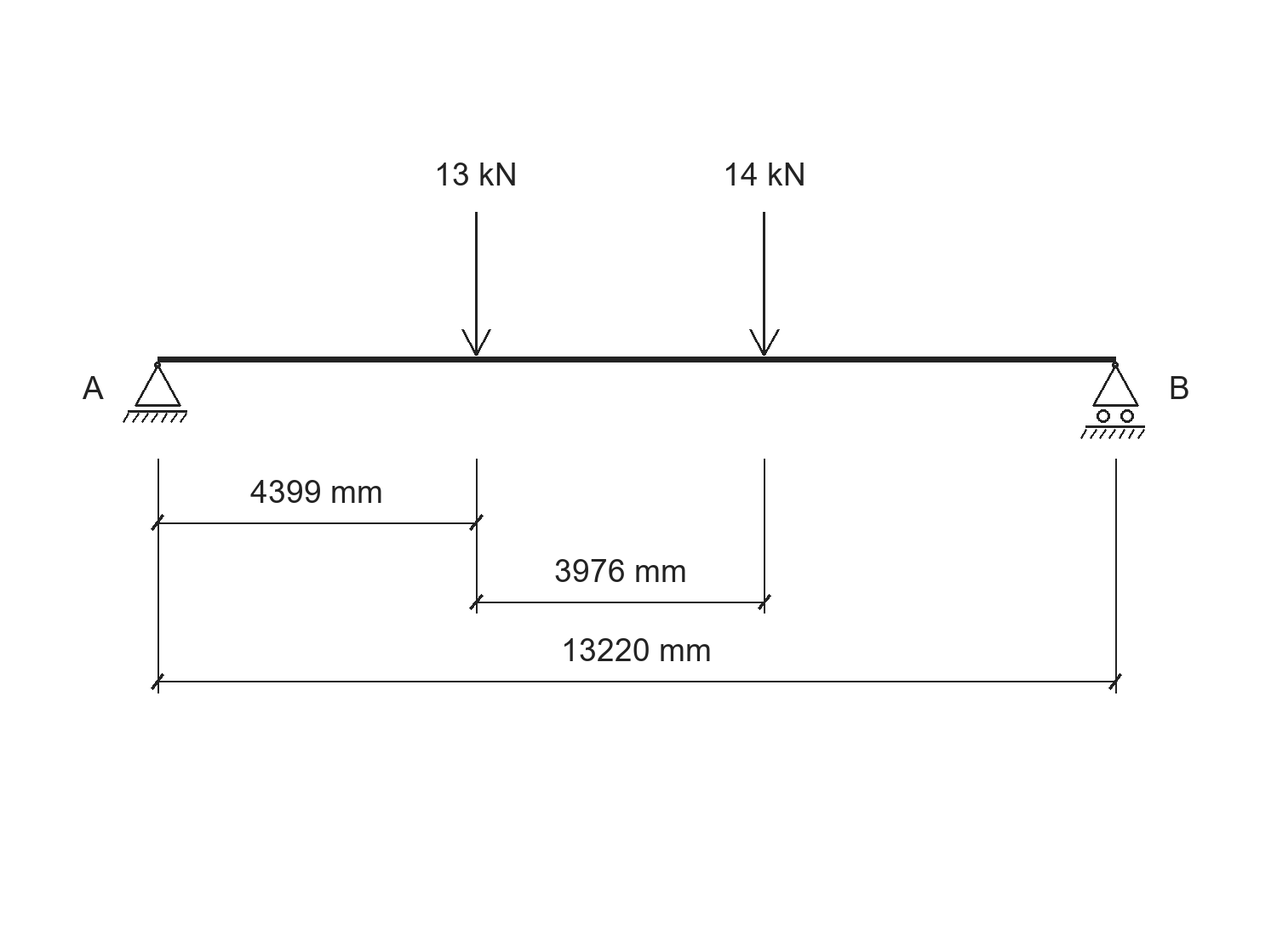pin_support: (123, 362, 187, 423)
point_load: (749, 212, 780, 356), (461, 212, 491, 356)
roller_support: (1080, 362, 1145, 439)
